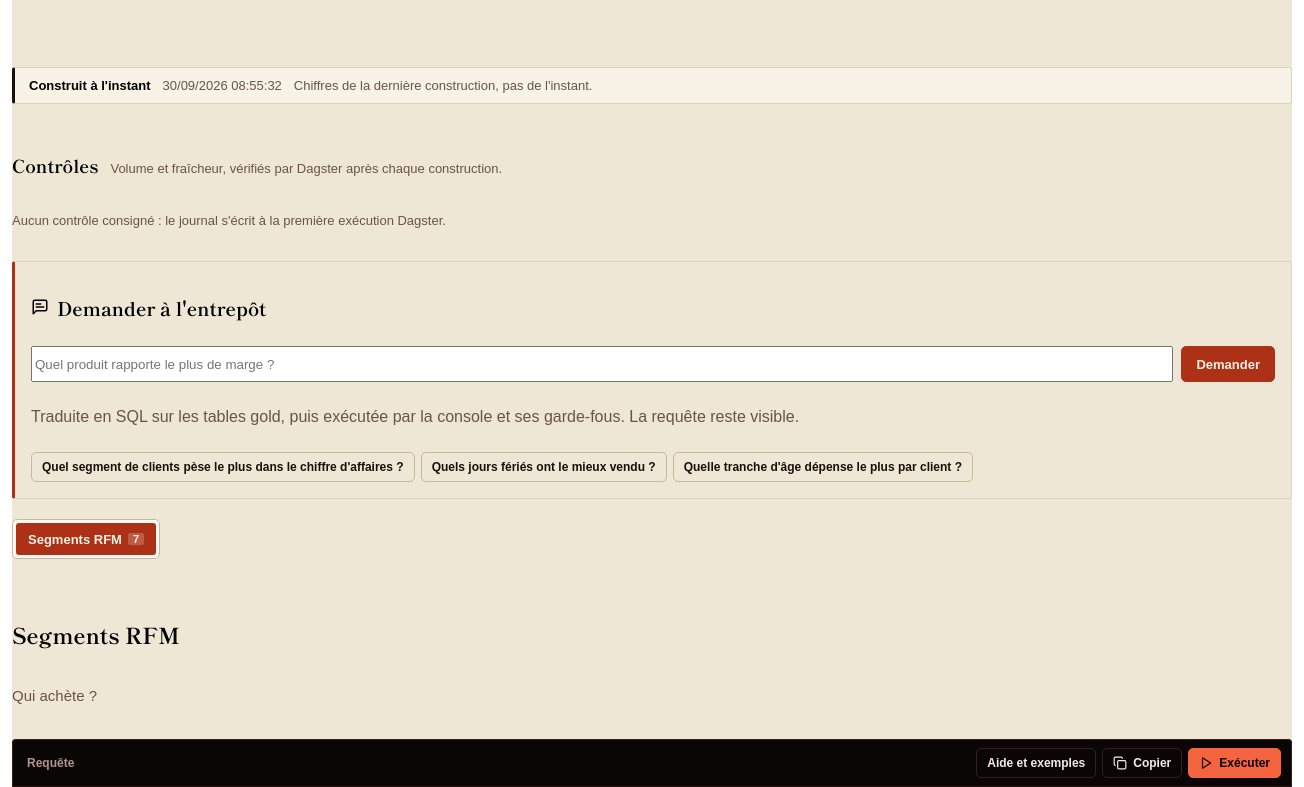
it: Demander à l'entrepôt › une question vide est refusée sans appel
The width and height of the screenshot is (1304, 787).
Click the button "Demander": coordinates (1228, 364) [1181,346,1275,382]
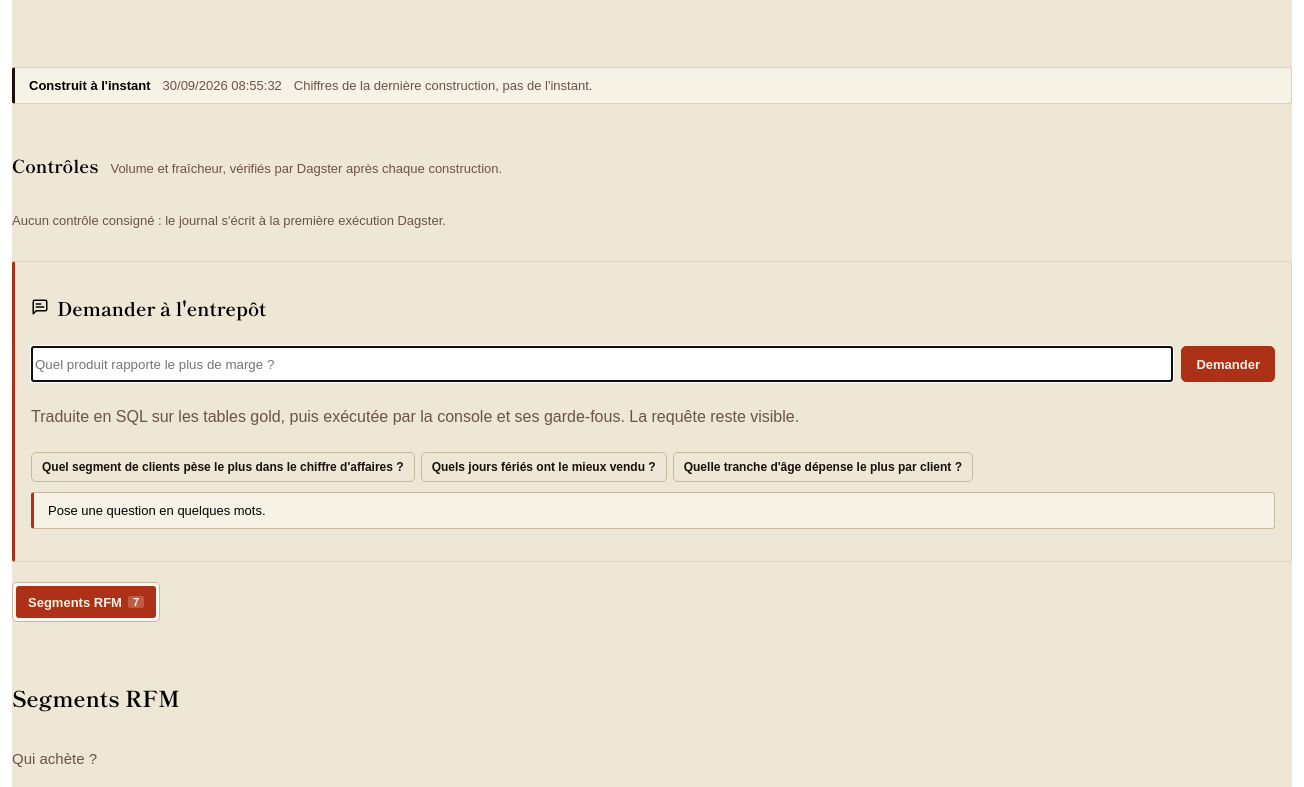
Result: the message shows "quelques mots" at [48,503,266,518]
